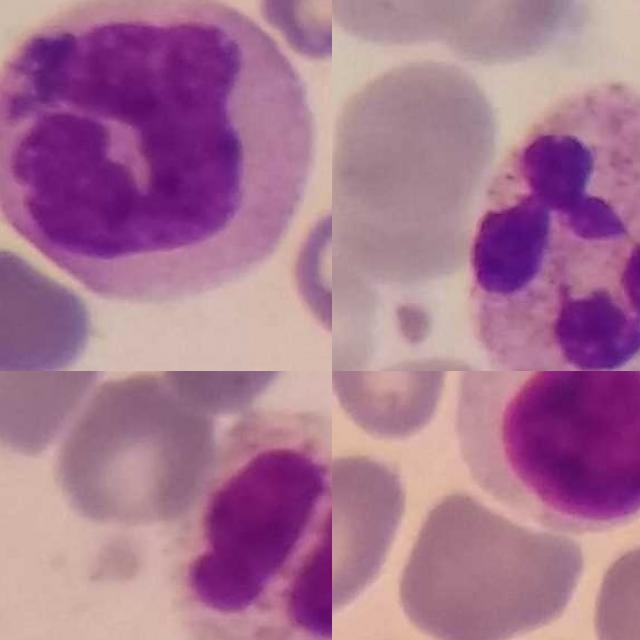Lymphocyte: (457, 371, 640, 537)
Monocyte: (0, 0, 319, 309)
Neutrophil: (468, 75, 640, 371), (175, 410, 332, 640)
